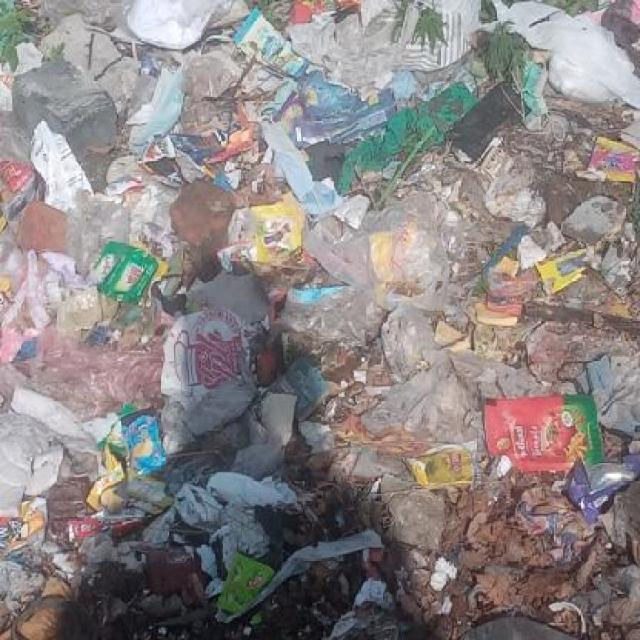garbage: (2, 77, 640, 640), (26, 3, 478, 78), (523, 0, 639, 75), (477, 0, 523, 26)
